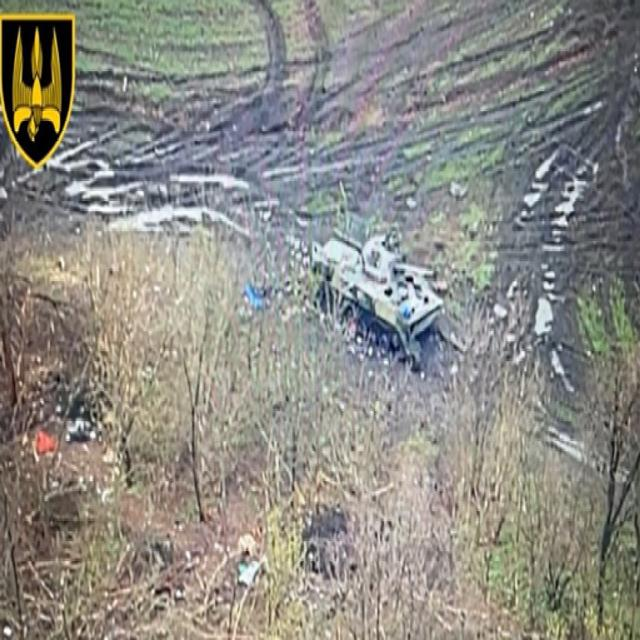APC-IFV: (309, 213, 446, 369)
